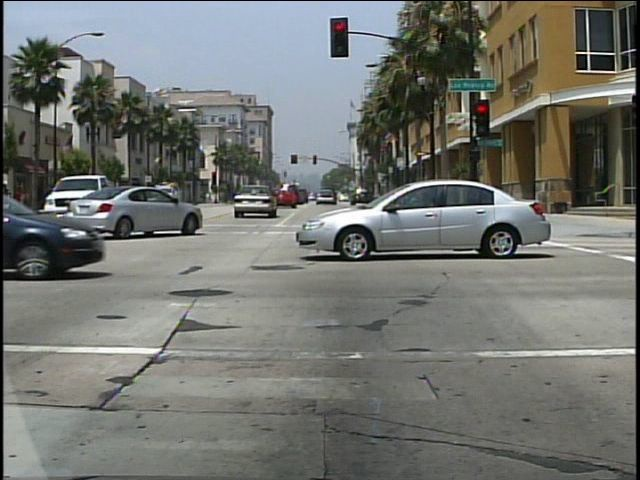person: (2, 175, 25, 231)
